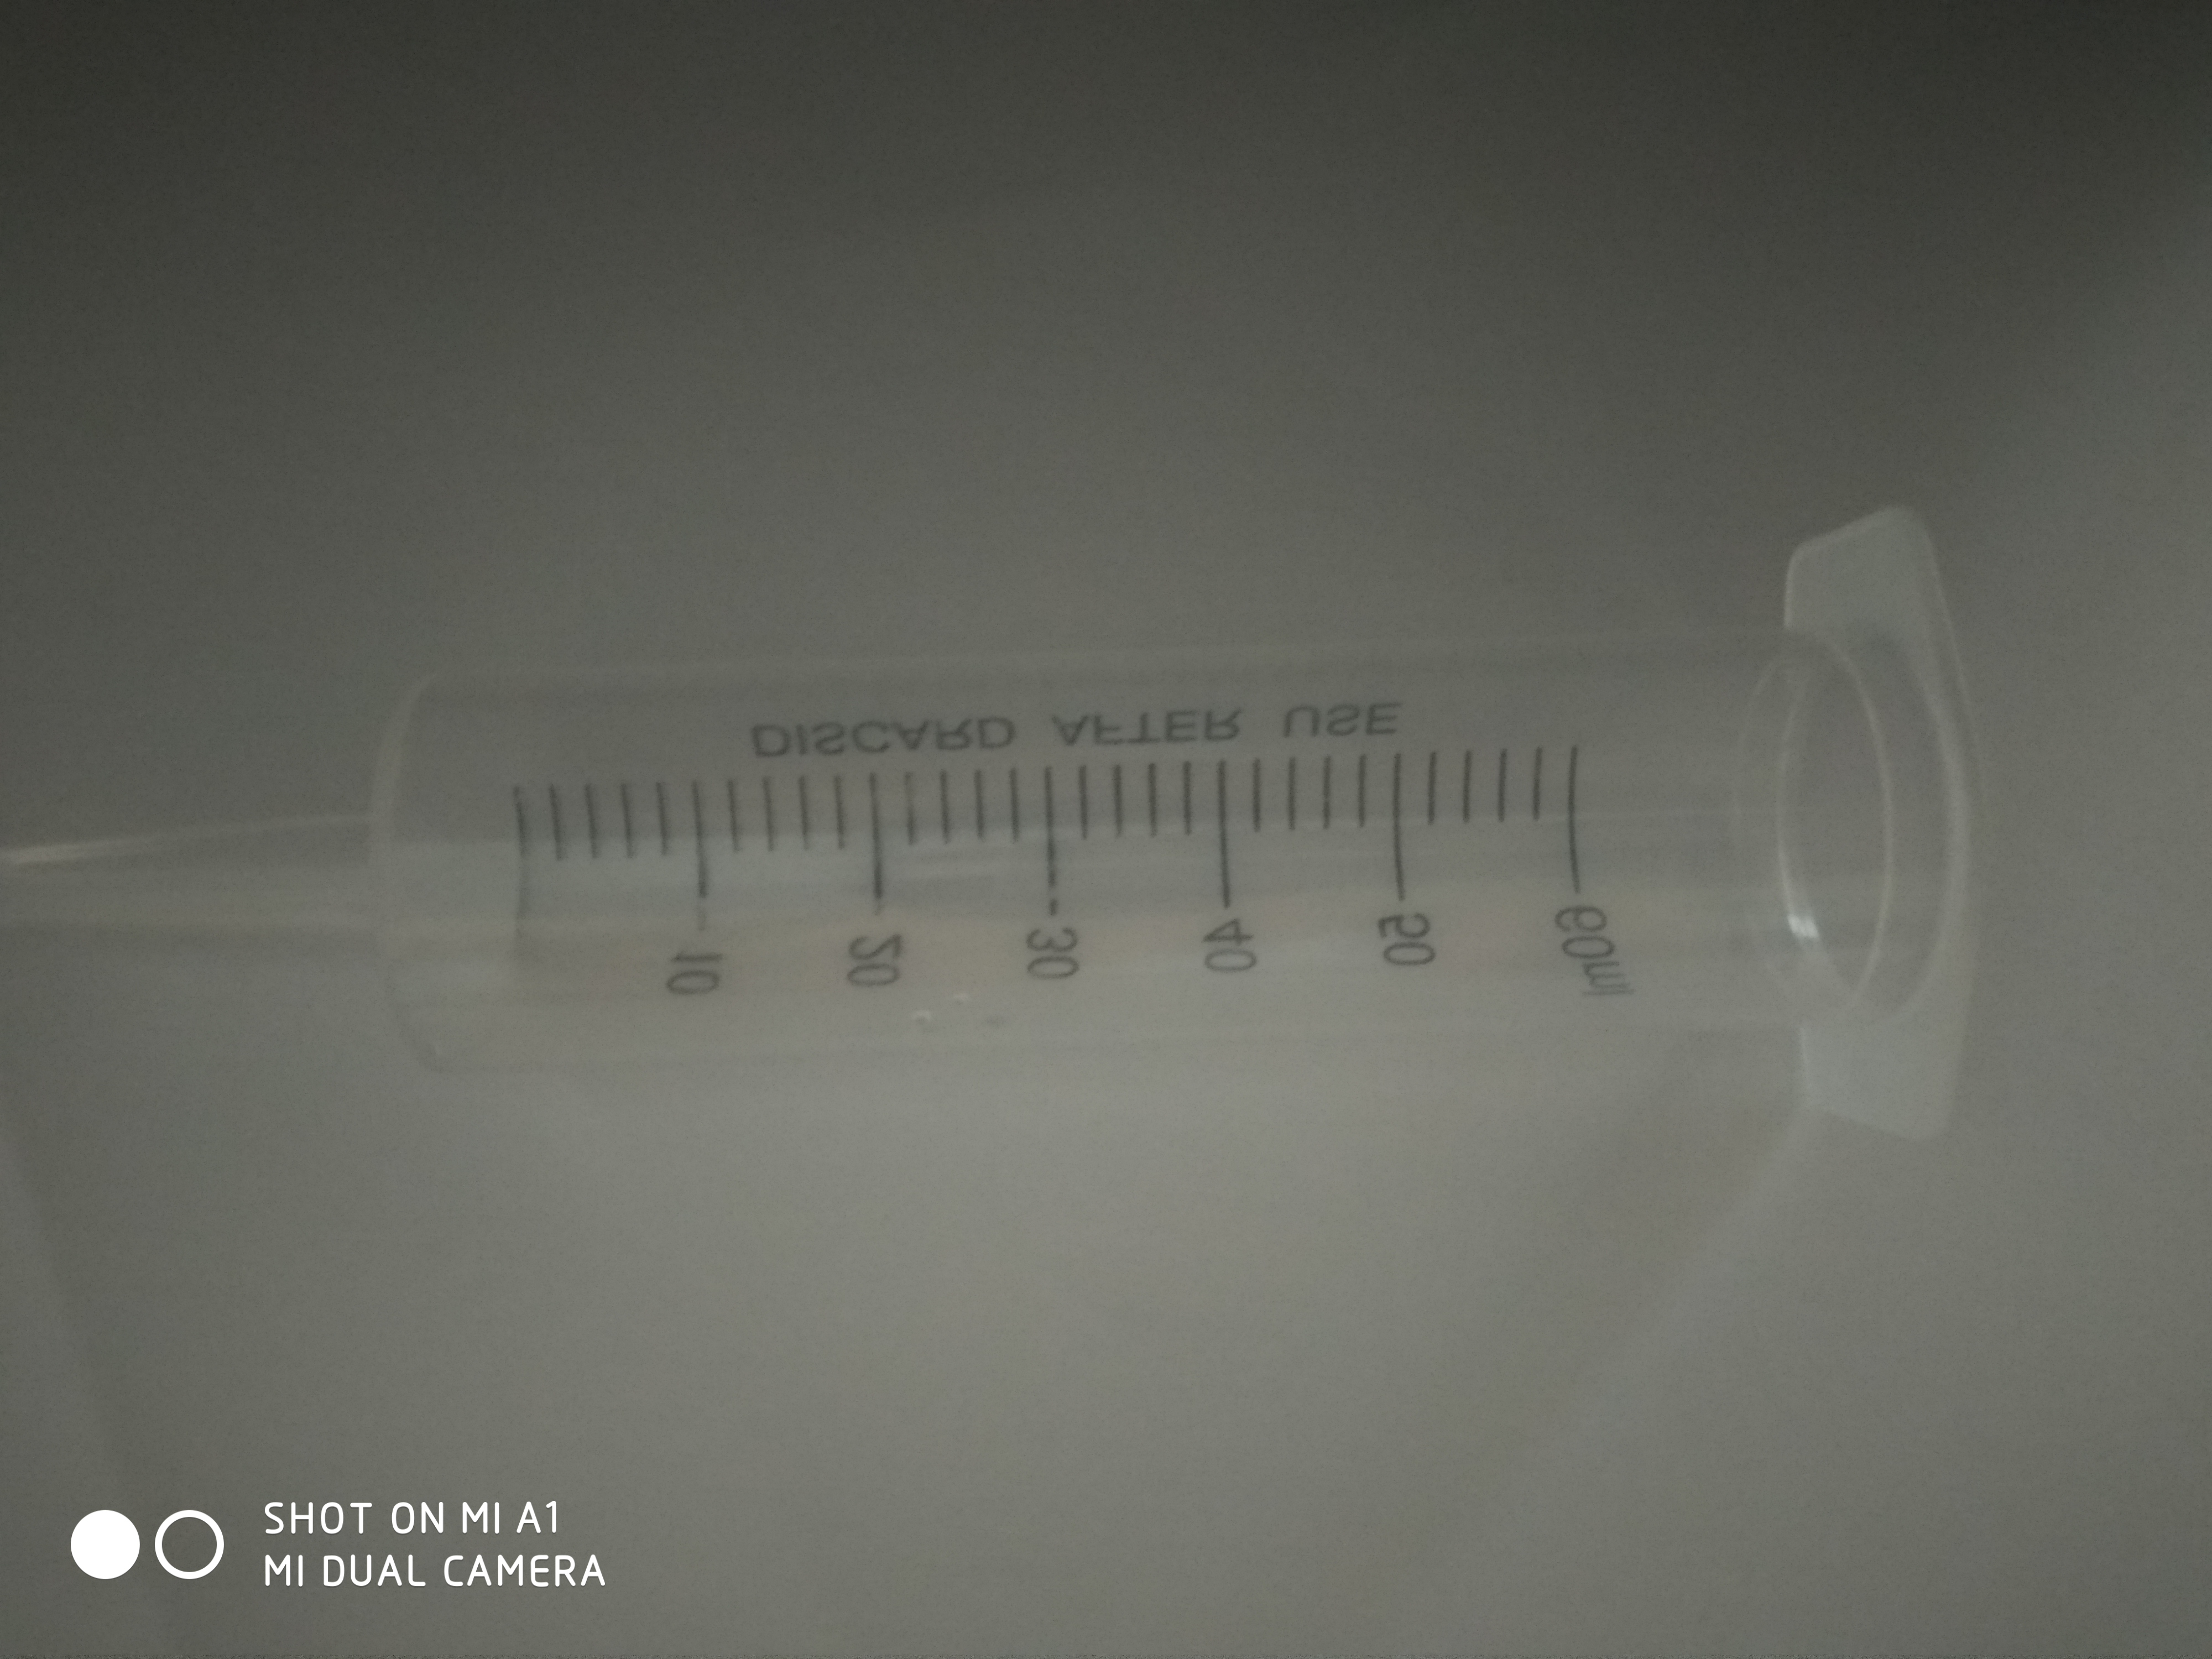syringe: (0, 491, 2013, 1150)
